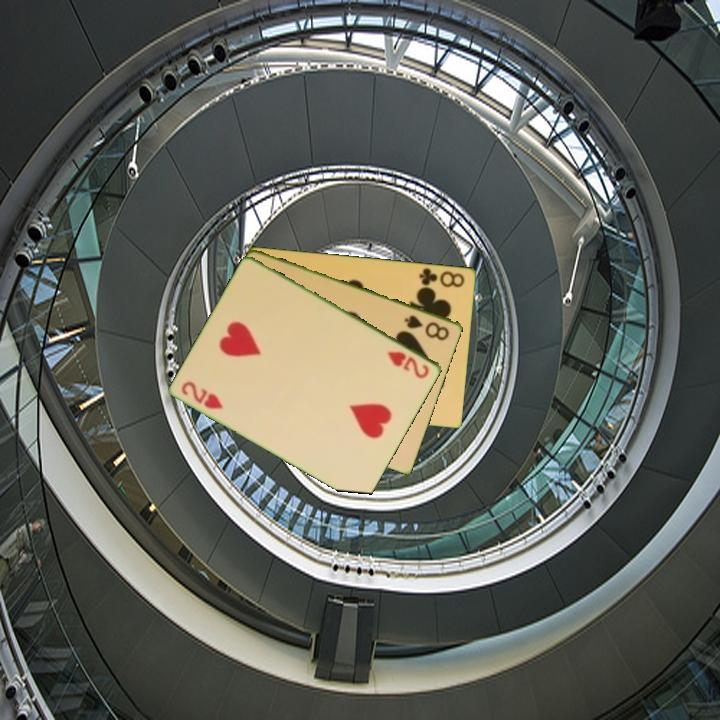2h: (178, 377, 226, 412), (384, 347, 432, 381)
8c: (416, 264, 468, 290)
8s: (401, 311, 452, 343)
